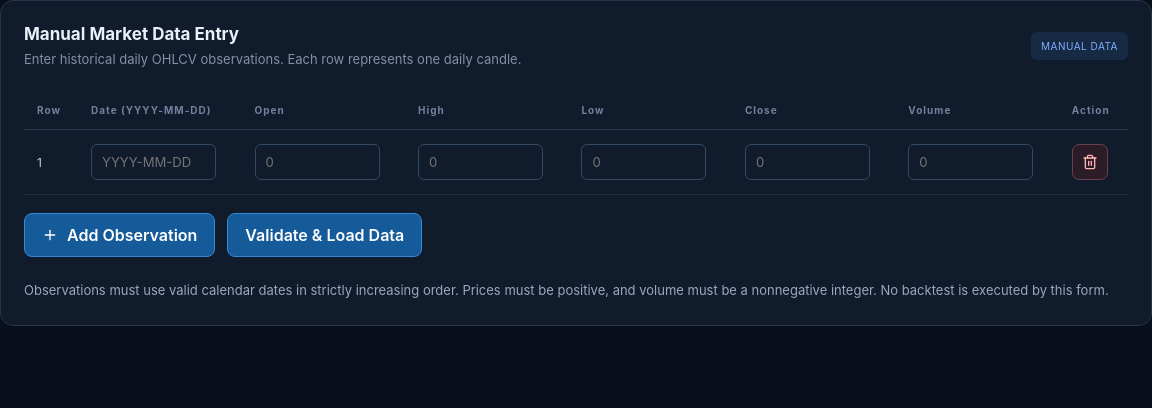
ManualDataEditor interactions › adds another observation
Click the button "Add Observation".
click(120, 235)  # box x1=24 y1=213 x2=215 y2=257
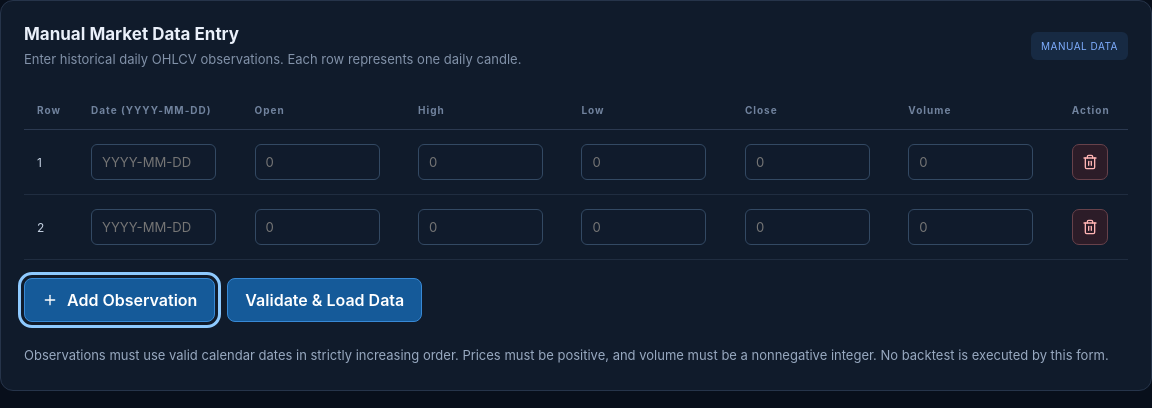
Result: the field named "Date (YYYY-MM-DD) row 2" is shown at x1=91 y1=209 x2=216 y2=245
